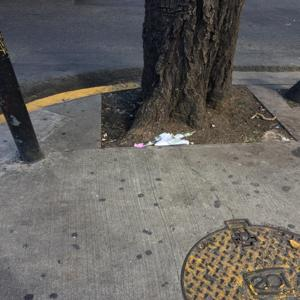plastic: (135, 129, 198, 150)
